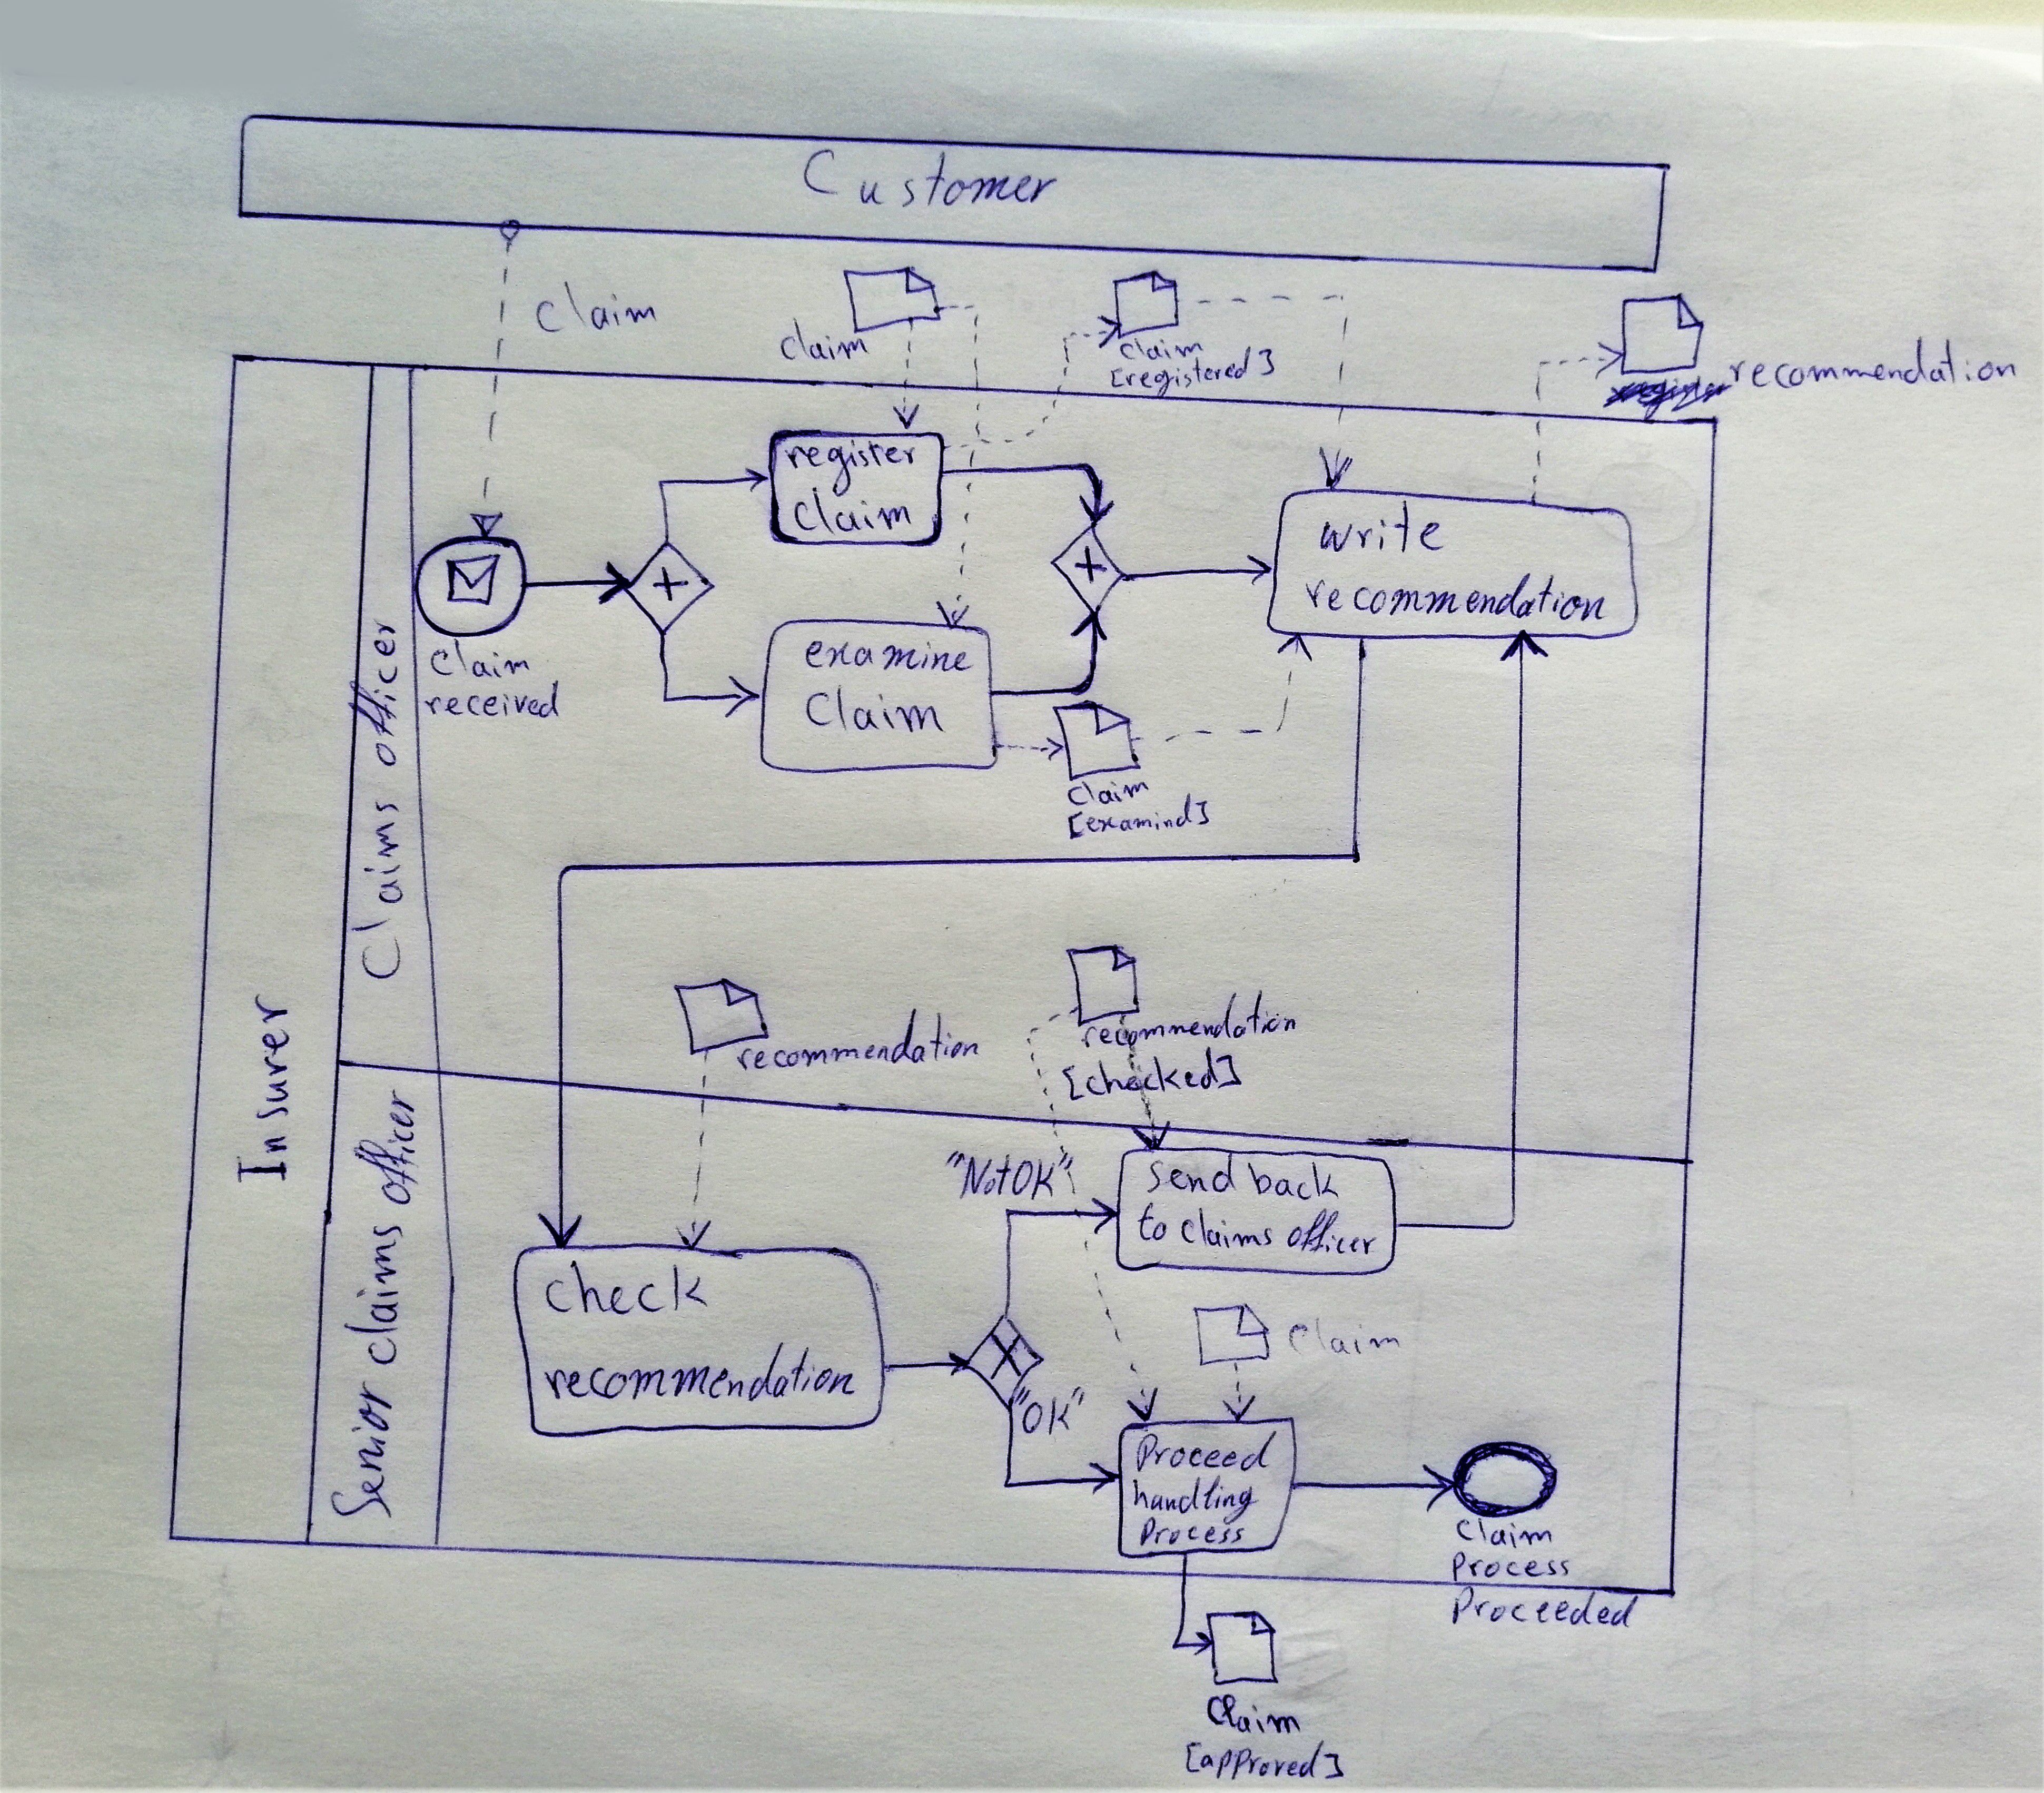Claim: (1201, 1687, 1307, 1739), (1451, 1511, 1559, 1555)
Customer: (796, 143, 1065, 216)
Insurer: (226, 990, 299, 1190)
Not: (939, 1146, 1015, 1203)
OK: (1008, 1381, 1088, 1442), (1008, 1148, 1079, 1205)
Proceed: (1131, 1426, 1283, 1476)
Proceeded: (1448, 1579, 1642, 1633)
Process: (1446, 1546, 1576, 1588), (1133, 1513, 1251, 1553)
Senior: (325, 1374, 403, 1525)
[approved]: (1178, 1736, 1351, 1788)
[checked]: (1057, 1040, 1246, 1108)
[examind]: (1062, 788, 1215, 845)
[registered]: (1105, 341, 1279, 402)
back: (1241, 1155, 1345, 1205)
check: (539, 1252, 716, 1322)
claim: (800, 678, 951, 741), (528, 273, 662, 339), (787, 482, 918, 539), (775, 311, 879, 369), (1283, 1313, 1404, 1362), (426, 633, 534, 683), (1062, 776, 1154, 810), (1114, 332, 1208, 365)
claims: (342, 793, 412, 988), (335, 1219, 412, 1370), (1175, 1202, 1277, 1254)
examine: (800, 633, 979, 677)
handling: (1126, 1470, 1265, 1530)
officer: (341, 612, 407, 774), (348, 1083, 424, 1212), (1283, 1203, 1384, 1261)
received: (419, 675, 565, 723)
recommendation: (537, 1334, 864, 1407), (1300, 567, 1615, 628), (730, 1002, 986, 1076), (1724, 330, 2025, 393), (1076, 984, 1302, 1054)
register: (779, 435, 923, 503)
send: (1140, 1146, 1243, 1198)
to: (1131, 1200, 1173, 1249)
write: (1312, 494, 1450, 558)
